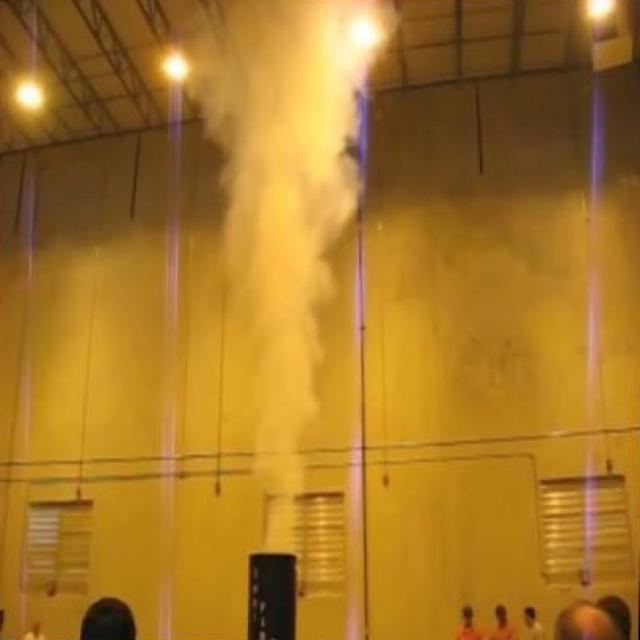fire: (156, 0, 395, 555)
